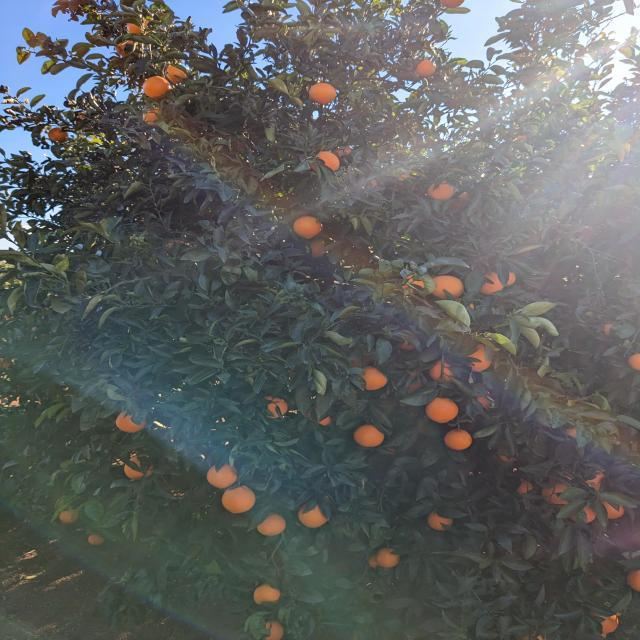Jeruk Sudah Matang: (222, 486, 256, 516), (297, 500, 329, 530), (255, 512, 288, 538), (426, 397, 458, 422), (424, 507, 456, 532), (122, 455, 155, 478), (434, 274, 464, 299), (142, 76, 172, 100), (115, 410, 147, 432), (353, 426, 385, 448), (206, 465, 236, 488), (466, 346, 492, 372), (292, 216, 324, 237), (252, 580, 280, 604), (542, 481, 570, 504), (264, 394, 290, 418), (446, 428, 474, 450), (309, 82, 336, 104), (364, 364, 386, 390), (591, 612, 619, 632), (479, 272, 504, 294), (430, 360, 454, 382), (316, 151, 341, 172), (162, 65, 188, 83), (376, 548, 401, 566), (428, 183, 454, 199), (584, 468, 602, 491), (263, 621, 284, 640), (604, 500, 622, 522), (116, 39, 139, 55), (123, 23, 149, 36), (309, 239, 326, 258), (48, 127, 68, 143), (142, 108, 162, 124), (474, 393, 494, 409), (416, 60, 434, 77), (60, 508, 79, 524), (582, 506, 598, 525), (628, 568, 640, 590), (627, 351, 640, 369), (437, 0, 466, 8), (516, 480, 530, 494), (368, 554, 379, 570), (316, 414, 330, 426), (506, 272, 516, 288), (89, 534, 103, 544)
